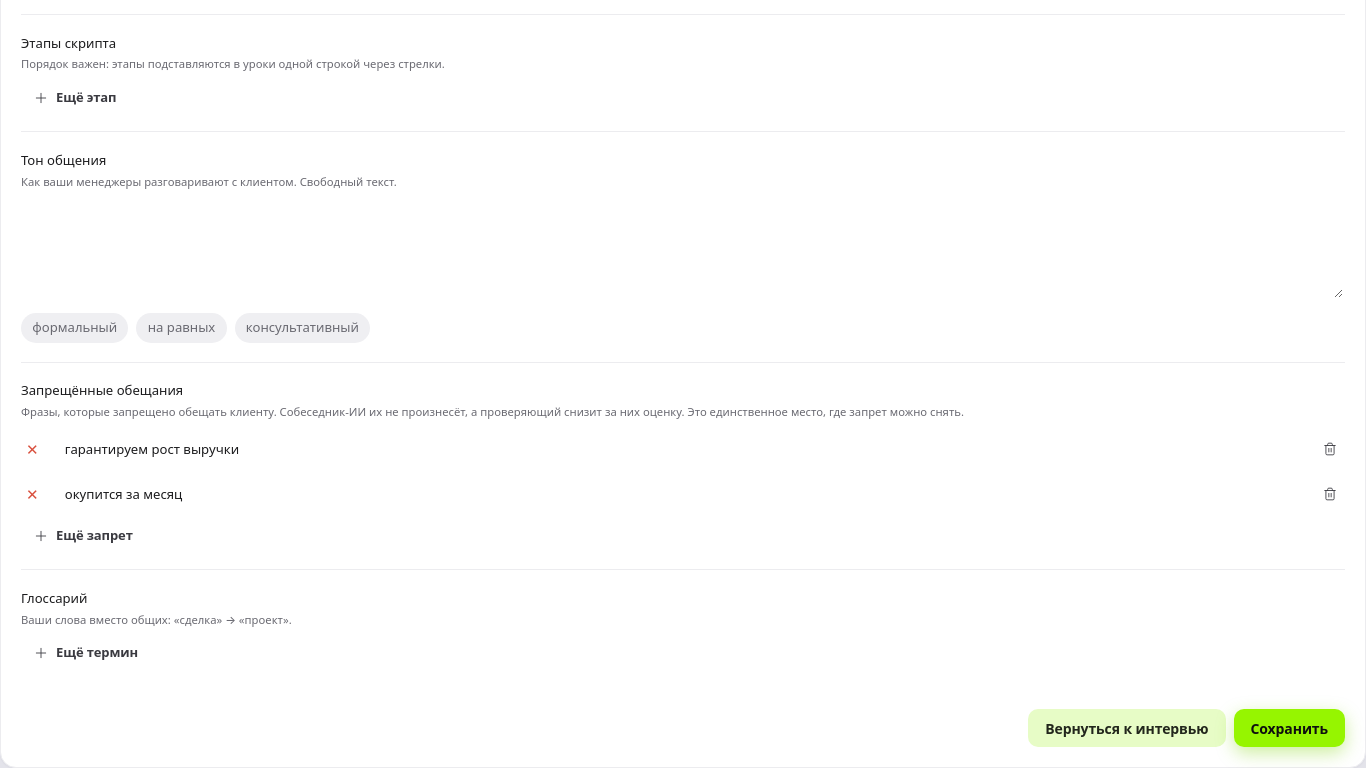
Test: the full profile form guards banned claims › still does not save after the removal is confirmed — a second confirmation names the loss
The width and height of the screenshot is (1366, 768).
(page scrolled)
Step 1. Click the button named "Снять запрет 2" → click(1330, 494), box top-left (1315, 479), bottom-right (1345, 509)
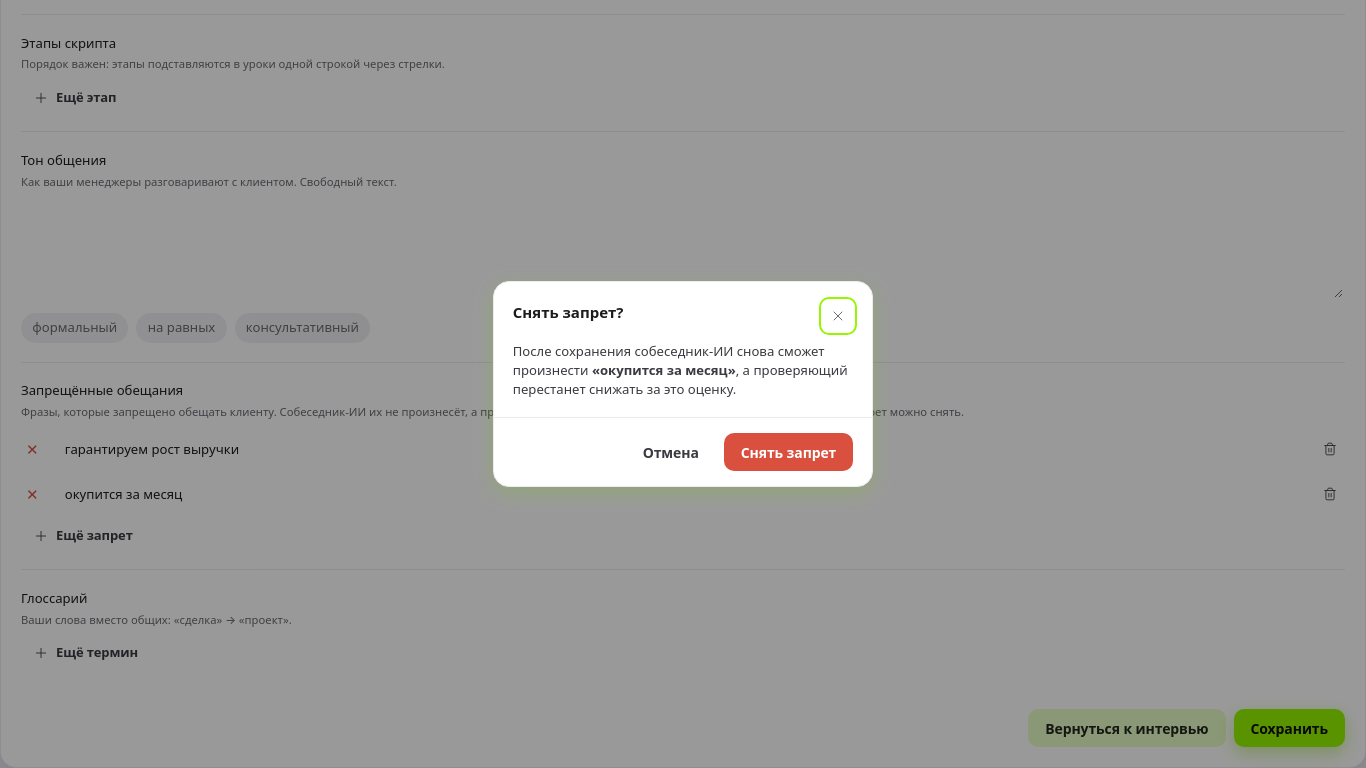
Step 2. Click the button "Снять запрет" → click(789, 452), box top-left (724, 433), bottom-right (853, 471)
(page scrolled)
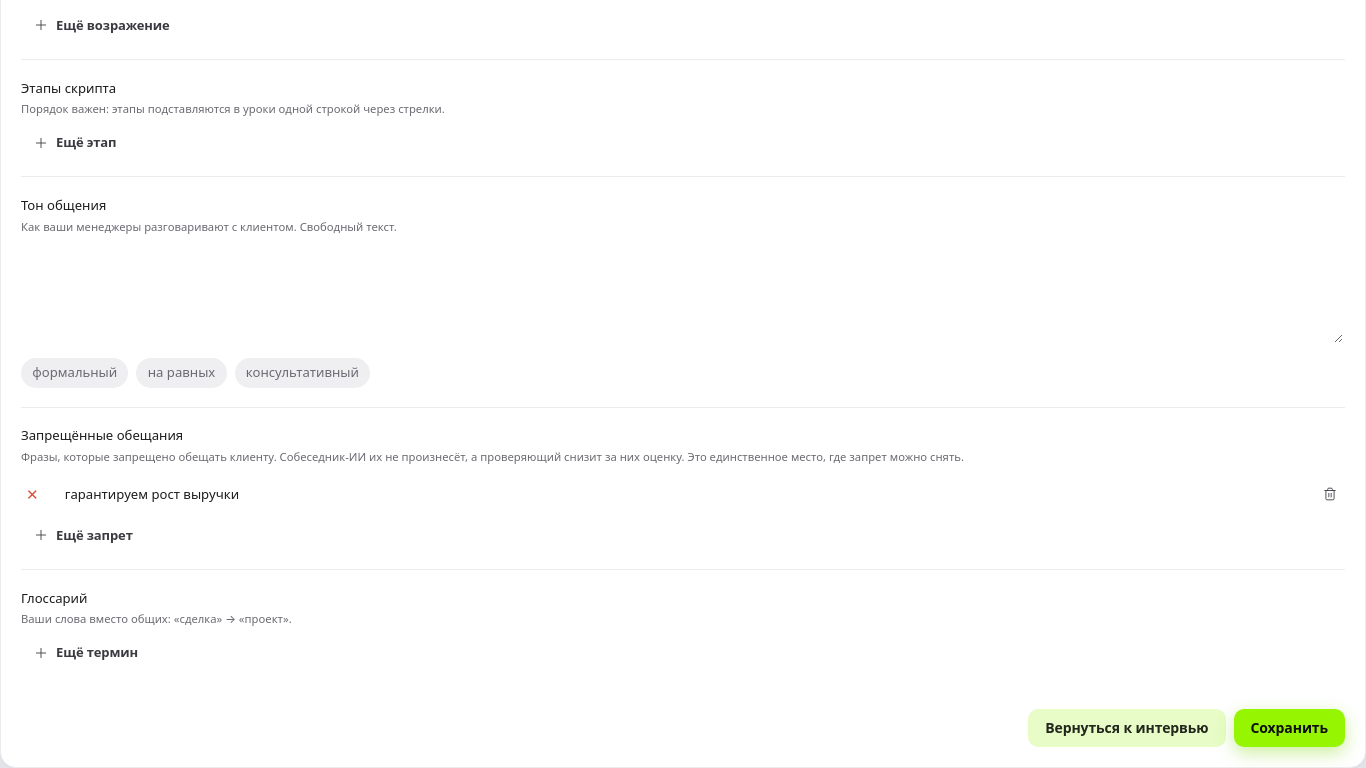
Check: the text showing "окупится за месяц" is gone
Step 3. Click the button "Сохранить" → click(1289, 728), box top-left (1234, 709), bottom-right (1345, 747)
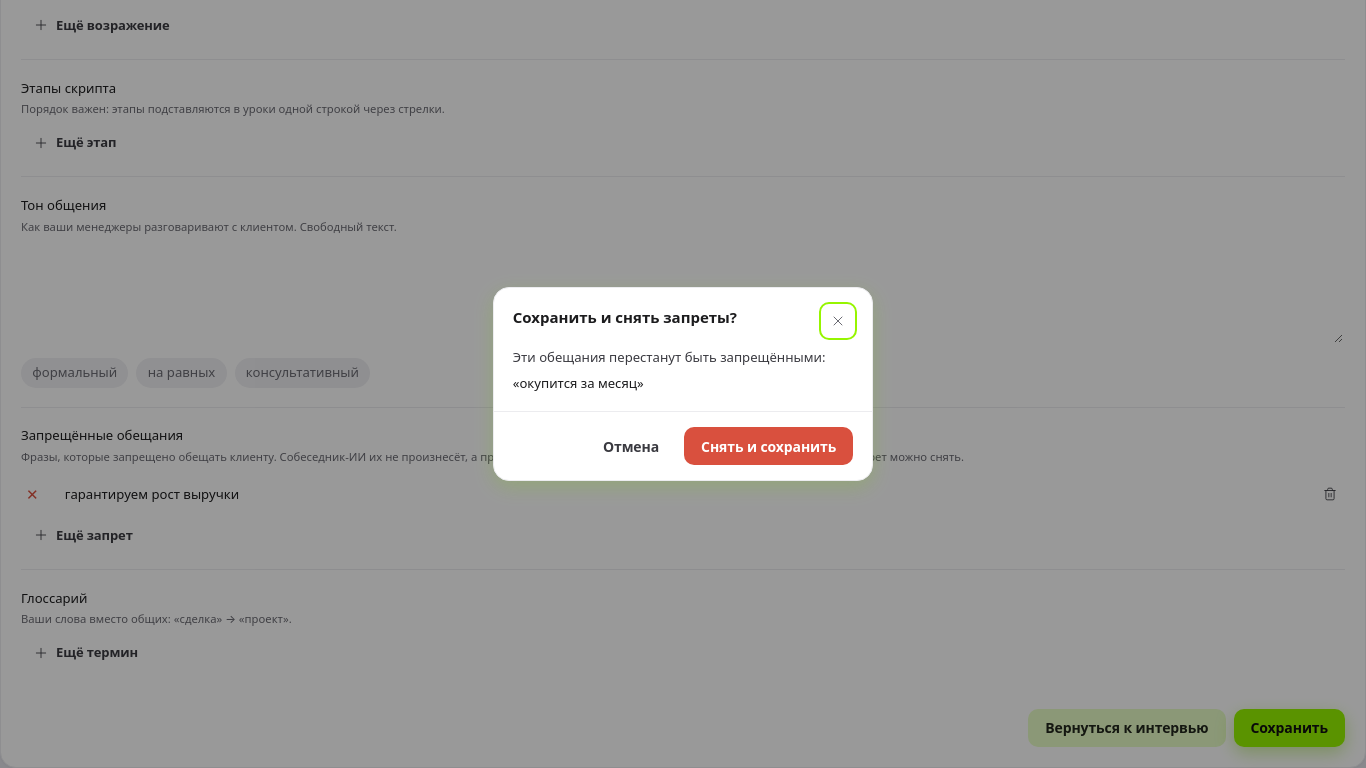
Check: the dialog is shown, box top-left (493, 287), bottom-right (873, 481)
Check: the text "Эти обещания перестанут быть запрещёнными:" is shown, box top-left (513, 348), bottom-right (853, 366)
